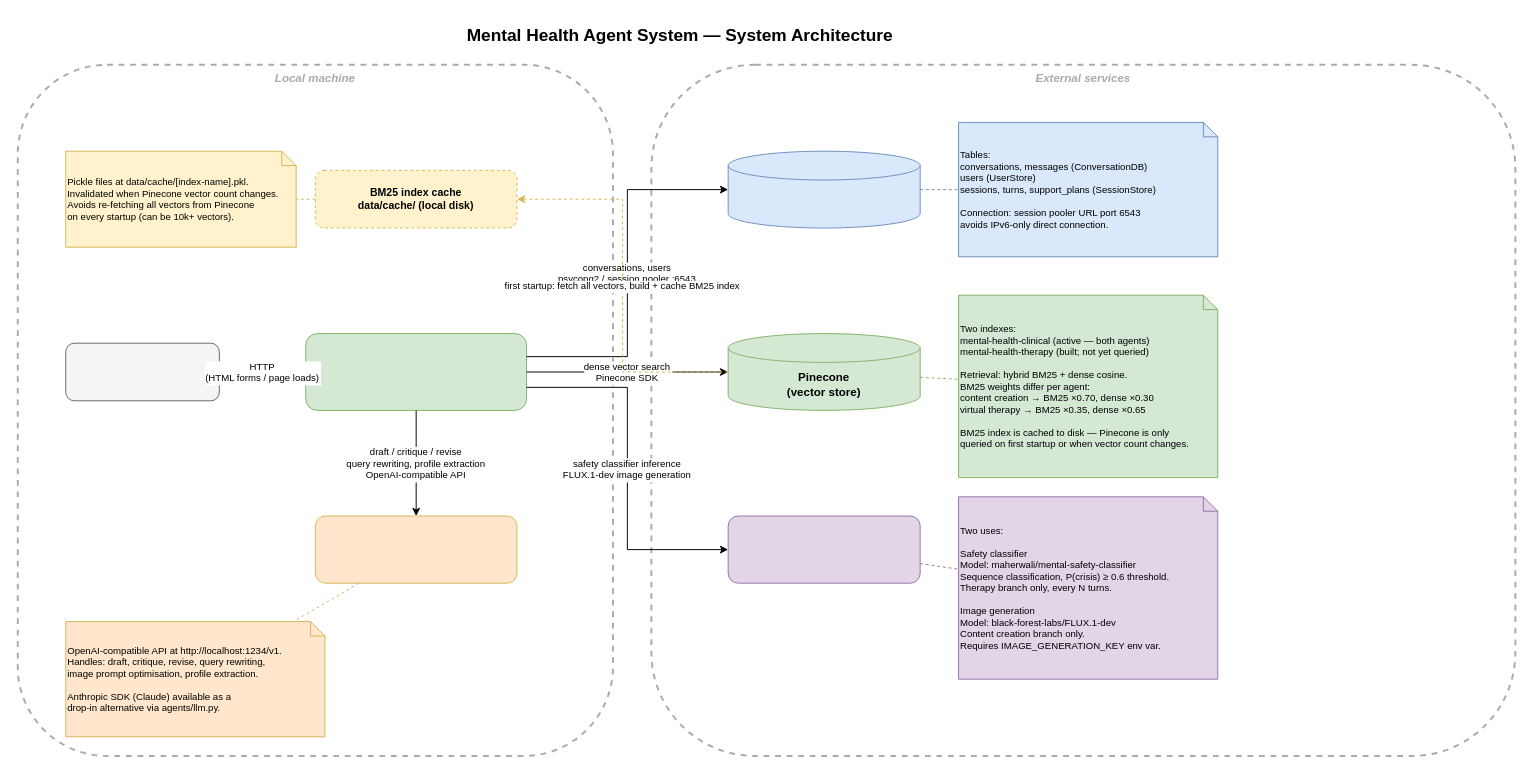
This 1532x773 diagram has some shape labels left out. The shapes that lost their labels are listed below. From the top down, each one's centre as x and y in pixels, then its label:
the point at 823,189: PostgreSQL (Supabase)
the point at 142,371: Browser / Client
the point at 416,371: FastAPI web_app.py (uvicorn)
the point at 415,549: LM Studio (local LLM server)
the point at 823,549: HuggingFace (Inference API)
